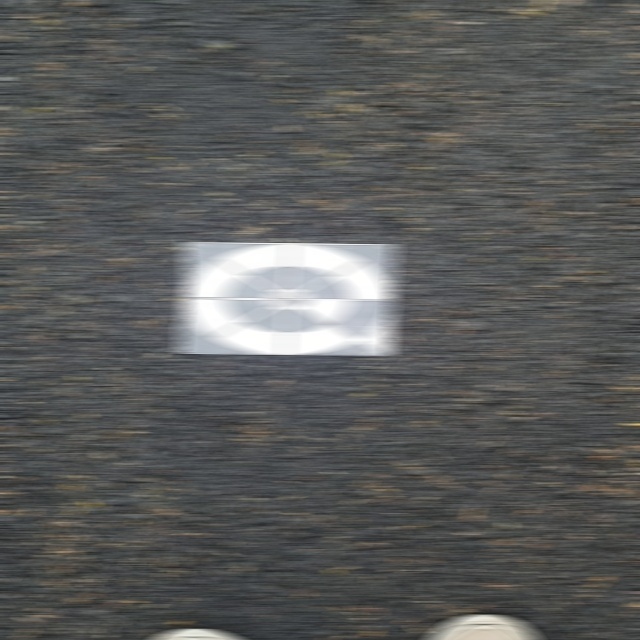landing-zone: (170, 239, 395, 362)
